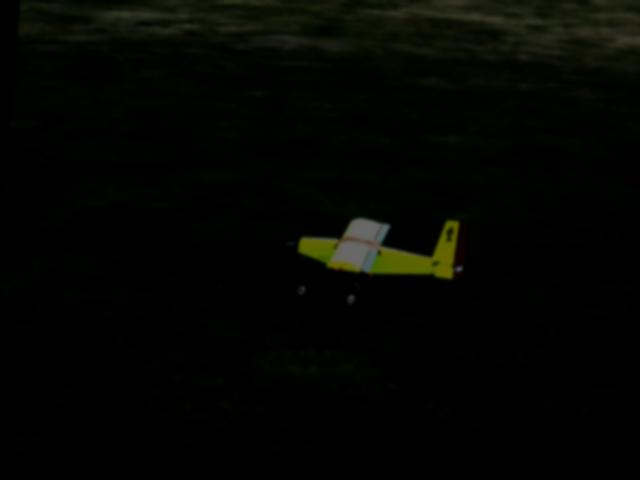plane: (280, 205, 472, 330)
